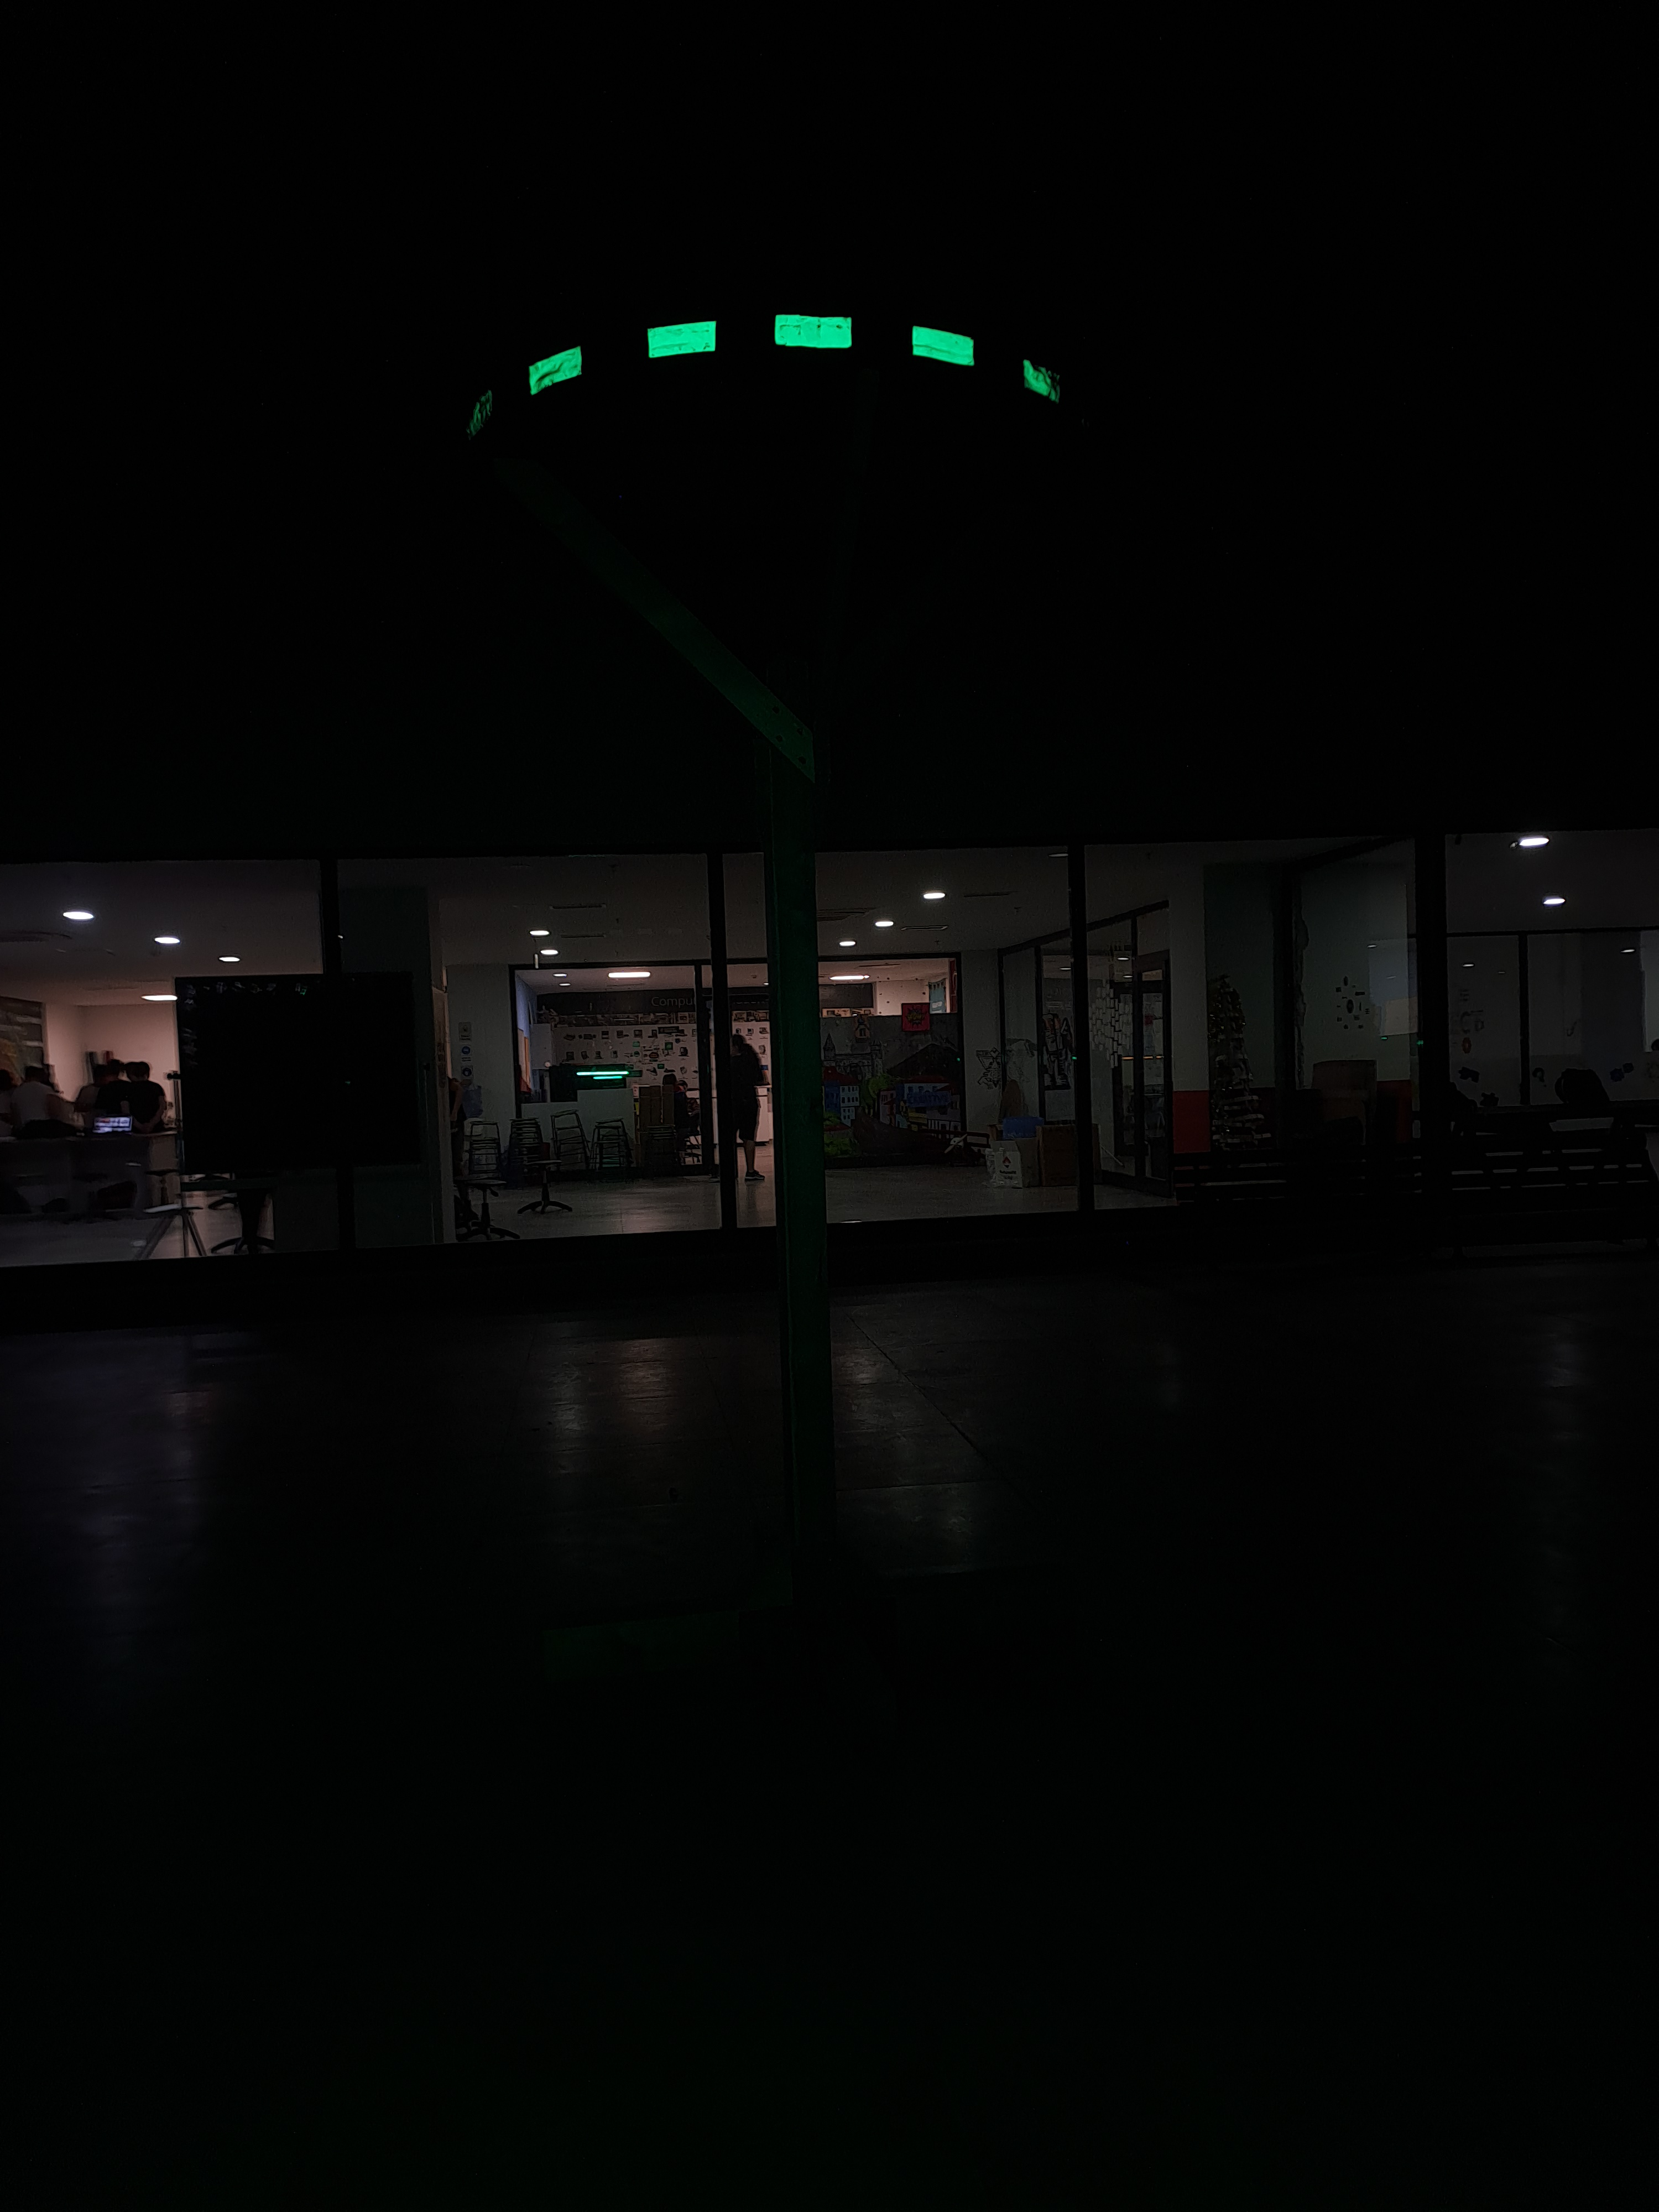hoop: (469, 312, 1063, 432)
